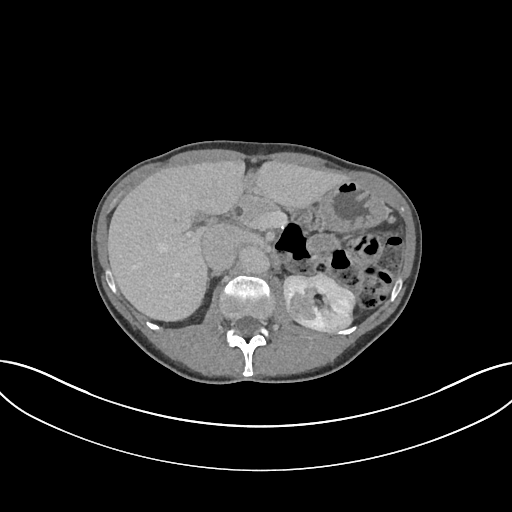Lesion: (283, 290, 318, 325)
